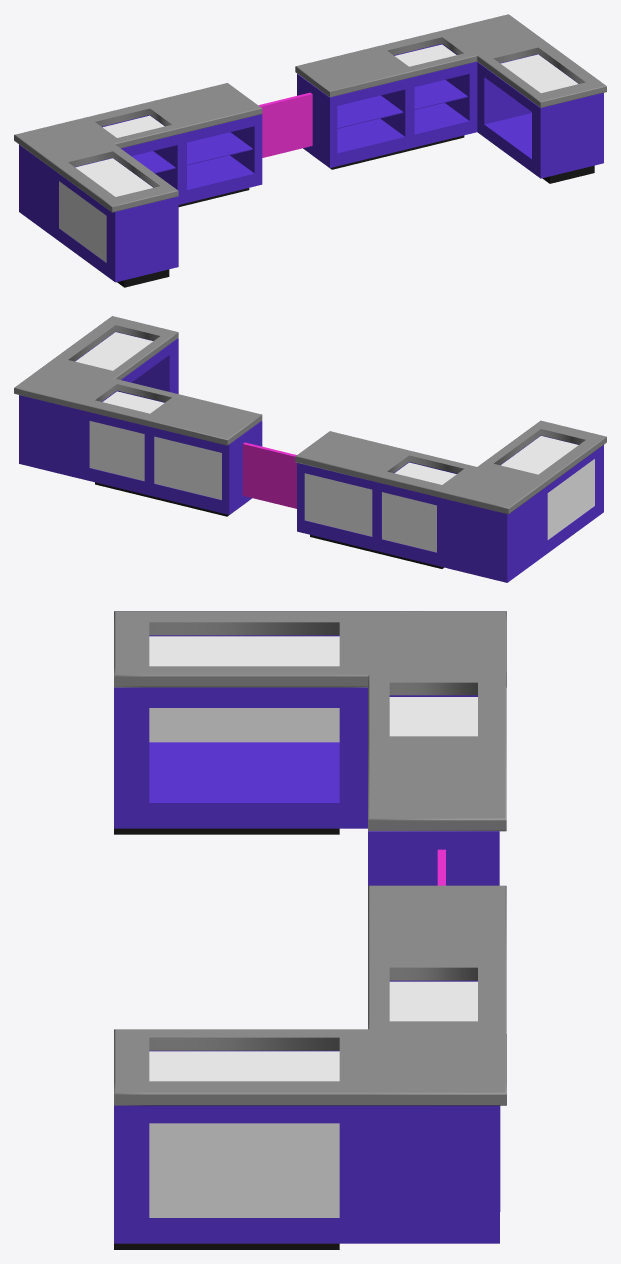
Rendered from SnackCounter_Environment_Model.fbx.
3 views of the same model, one above another, from view 1: azimuth 30°, elevation 25°; view 2: azimuth 150°, elevation 25°; view 3: azimuth 270°, elevation 25° (orthographic). The views are drawn at different scales.
Visible parts, largest first — view 1: SnackCounter_Main, SnackCounter_Countertop, CounterGlass, SnackCounter_Main_Door; view 2: SnackCounter_Main, SnackCounter_Countertop, CounterGlass, SnackCounter_Main_Door; view 3: SnackCounter_Countertop, SnackCounter_Main, CounterGlass.
Part boxes in pixels (x1,y1,x2,y2): SnackCounter_Main: [19, 44, 603, 287]; SnackCounter_Countertop: [14, 14, 606, 212]; CounterGlass: [59, 44, 578, 262]; SnackCounter_Main_Door: [258, 92, 312, 157]; SnackCounter_Main: [19, 331, 603, 582]; SnackCounter_Countertop: [14, 316, 606, 514]; CounterGlass: [75, 332, 594, 552]; SnackCounter_Main_Door: [242, 442, 296, 508]; SnackCounter_Countertop: [114, 611, 506, 1105]; SnackCounter_Main: [114, 635, 500, 1249]; CounterGlass: [149, 636, 477, 1217].
Size of the model in its own units: 799 by 130 by 275.
